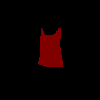canottiera: (37, 27, 62, 66)
